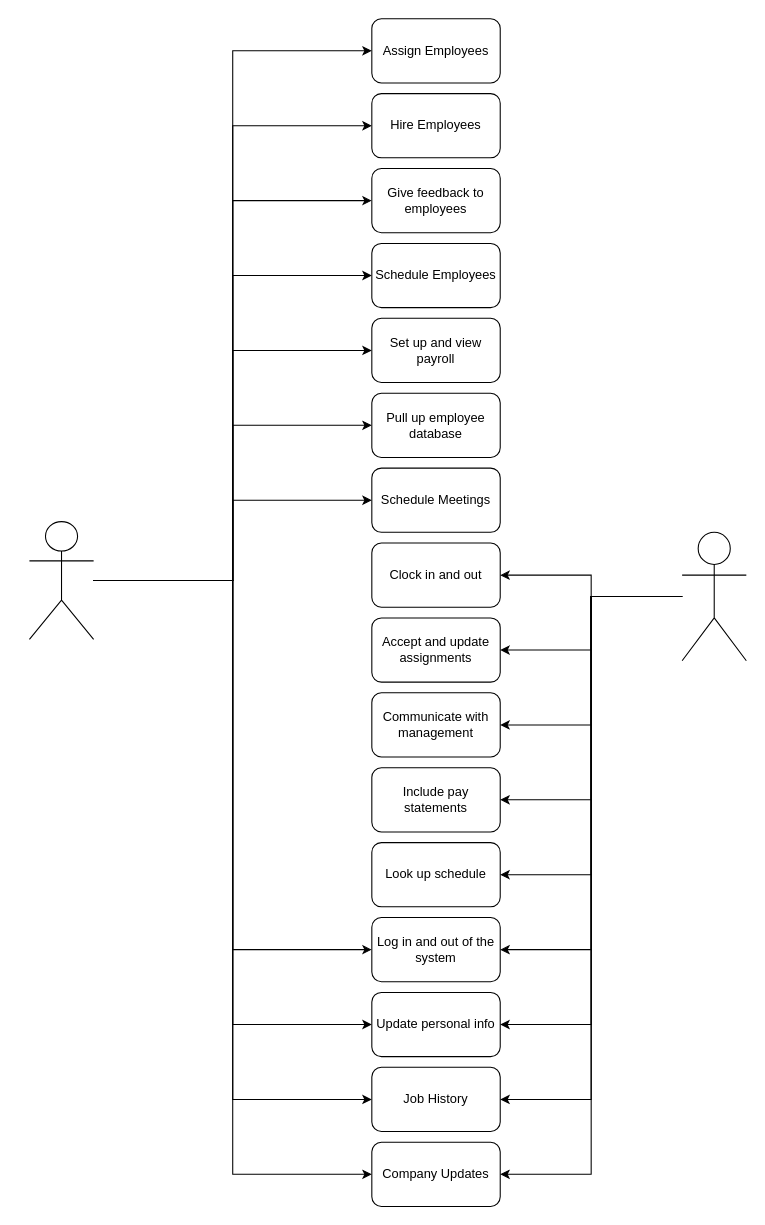
Some shapes in this 765 by 1225 pixel diagram are drawn without their labels. Each missing label, with the box of its shape:
Employee: (681, 531, 746, 661)
HR Employees: (28, 521, 94, 639)
